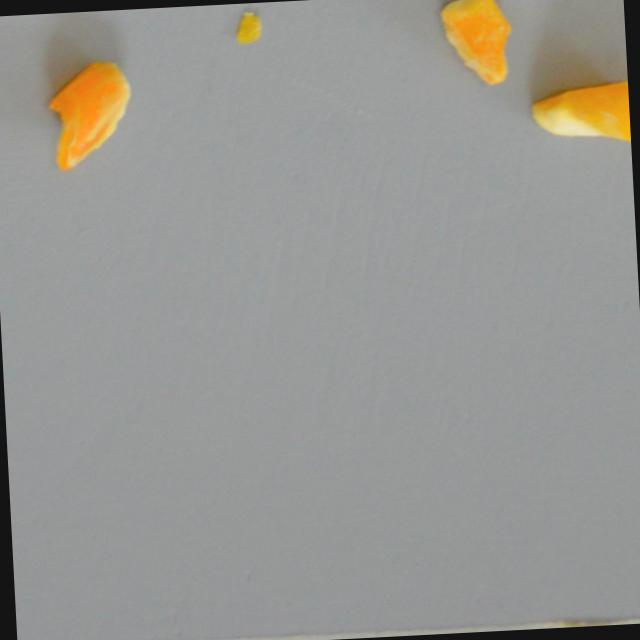dañado: (38, 55, 143, 176), (524, 74, 631, 150), (435, 0, 520, 91)
